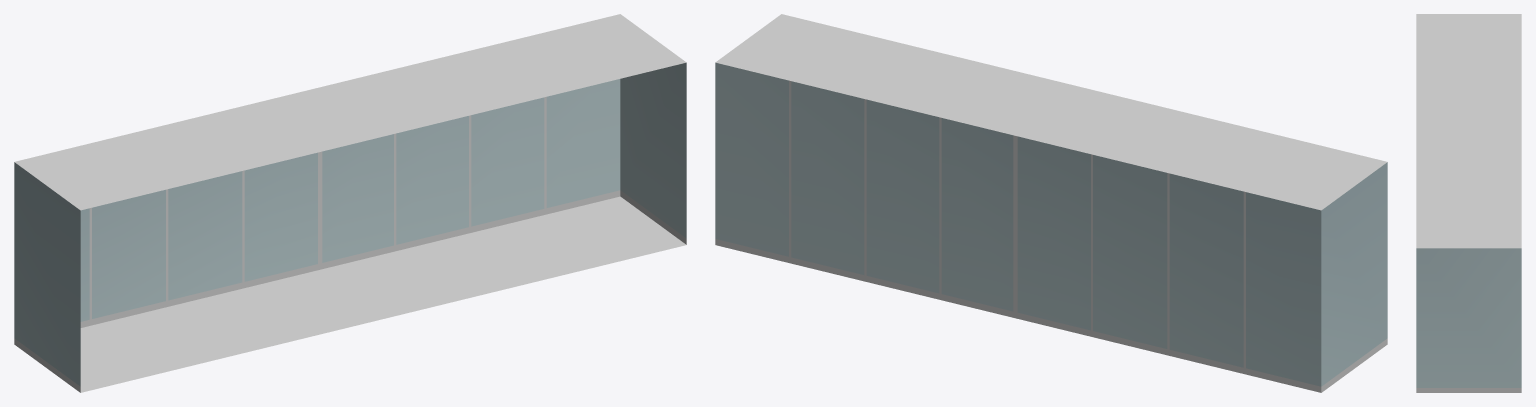
The model's file is Closed.fbx.
3 renders of one model, left to right at view 1: azimuth 30°, elevation 25°; view 2: azimuth 150°, elevation 25°; view 3: azimuth 270°, elevation 25°, orthographic. The views are drawn at different scales.
Parts seen in each view (by area): view 1: Balkon Otkr.011; view 2: Balkon Otkr.011; view 3: Balkon Otkr.011.
Boxes of the visible parts, <box> form: Balkon Otkr.011: <box>14,14,686,392</box>; Balkon Otkr.011: <box>715,14,1387,392</box>; Balkon Otkr.011: <box>1416,14,1521,392</box>.
Size of the model in its own units: 2533 by 729 by 480.
